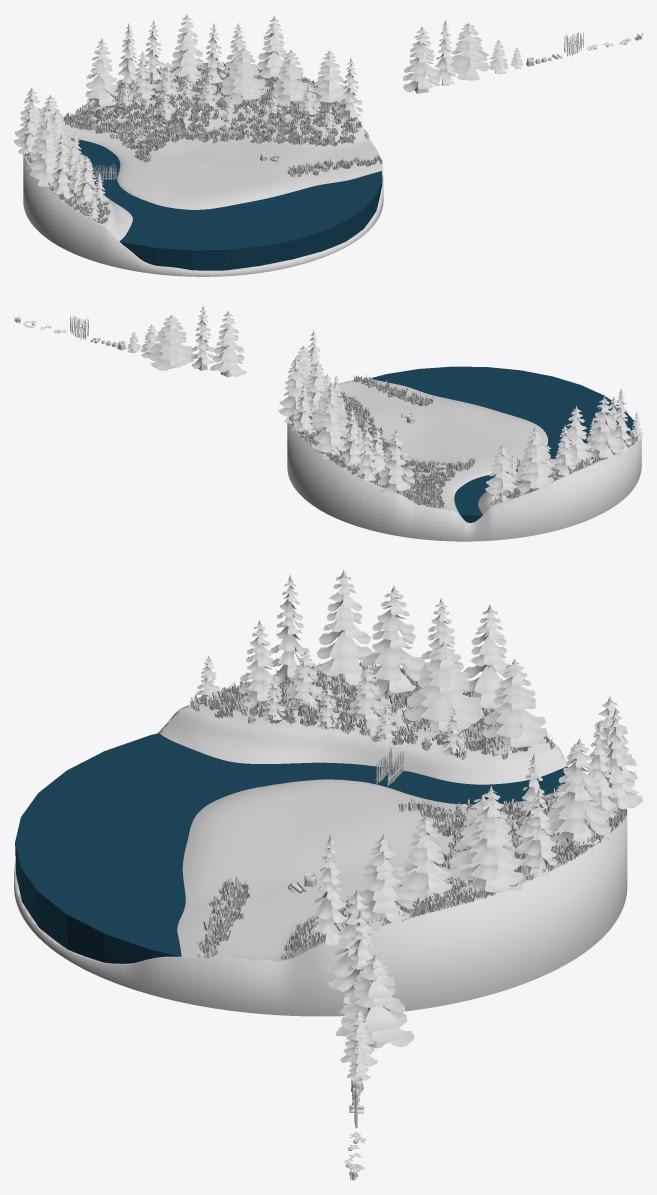
File: Location.fbx
3 renders of one model, top to bottom at view 1: azimuth 30°, elevation 25°; view 2: azimuth 150°, elevation 25°; view 3: azimuth 270°, elevation 25°, orthographic. The views are drawn at different scales.
Parts seen in each view (by area): view 1: Location_Ground, Lokation_Trees, Location_Water, Location_Grass, Tree, Tree.002, Tree.001, Tree.003; view 2: Location_Ground, Lokation_Trees, Location_Water, Location_Grass, Tree.002, Tree, Tree.001; view 3: Location_Ground, Lokation_Trees, Location_Water, Location_Grass, Tree.002, Tree, Tree.001, Tree.003.
Boxes of the visible parts, <box> form: Location_Ground: <box>23,65,383,276</box>; Lokation_Trees: <box>14,14,362,220</box>; Location_Water: <box>71,138,382,270</box>; Location_Grass: <box>24,61,382,223</box>; Tree: <box>403,26,440,93</box>; Tree.002: <box>450,23,489,80</box>; Tree.001: <box>435,20,455,85</box>; Tree.003: <box>489,39,508,74</box>; Location_Ground: <box>287,378,641,541</box>; Lokation_Trees: <box>278,330,642,501</box>; Location_Water: <box>370,366,634,522</box>; Location_Grass: <box>288,375,639,508</box>; Tree.002: <box>149,315,193,370</box>; Tree: <box>210,311,246,377</box>; Tree.001: <box>191,306,214,370</box>; Location_Ground: <box>14,673,627,1016</box>; Lokation_Trees: <box>196,570,642,945</box>; Location_Water: <box>15,733,567,963</box>; Location_Grass: <box>190,662,626,959</box>; Tree.002: <box>336,954,414,1048</box>; Tree: <box>327,889,385,1004</box>; Tree.001: <box>339,910,371,1014</box>; Tree.003: <box>340,1008,377,1066</box>.
Bounding box in the file's own units: 3910 × 722 × 2038.
